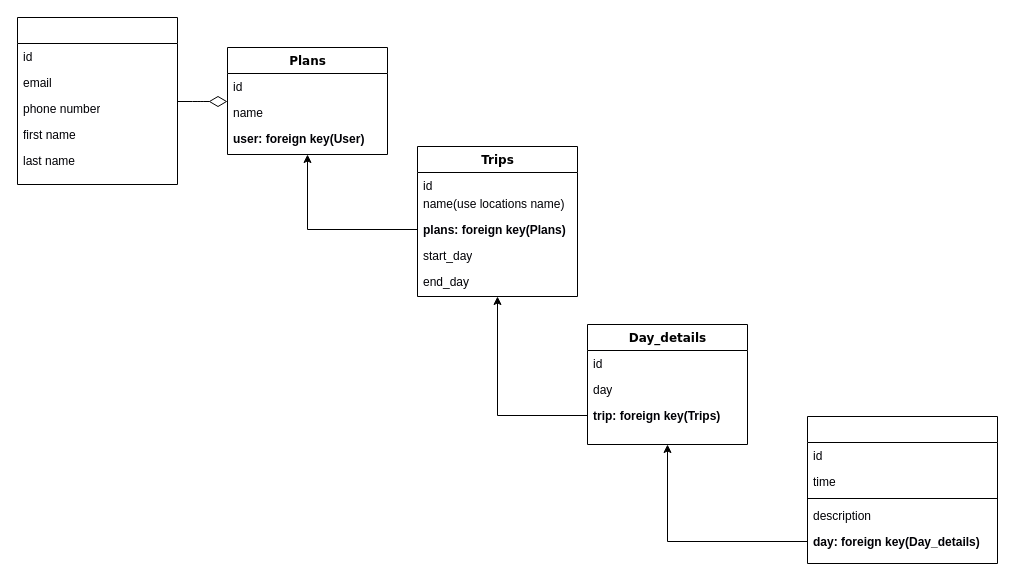
This 1015x581 diagram has some shape labels left out. The shapes that lost their labels are listed below. From the top down, each one's box as (x1, y1, x2, y2) in pixels, then its label:
(16, 16, 178, 184): User
(806, 416, 998, 564): Time_details
